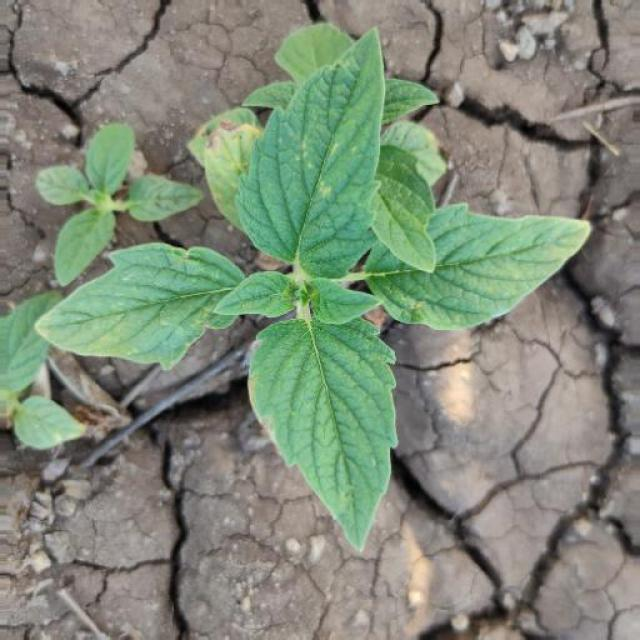crop: (29, 17, 594, 555), (32, 117, 202, 285)
